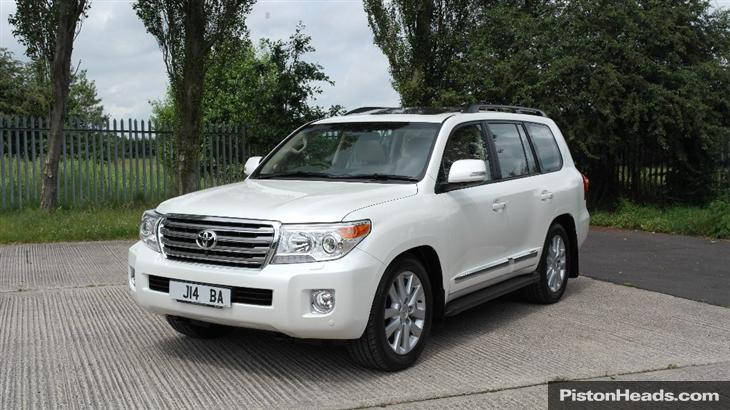car: (127, 105, 588, 371)
